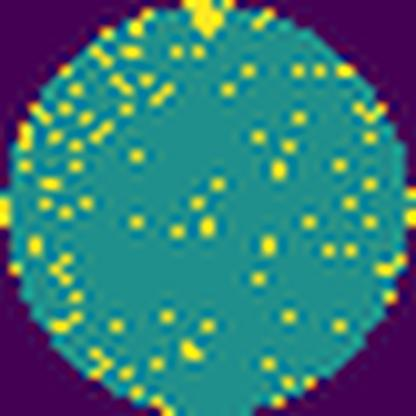Edge-Loc: (181, 0, 238, 41)
